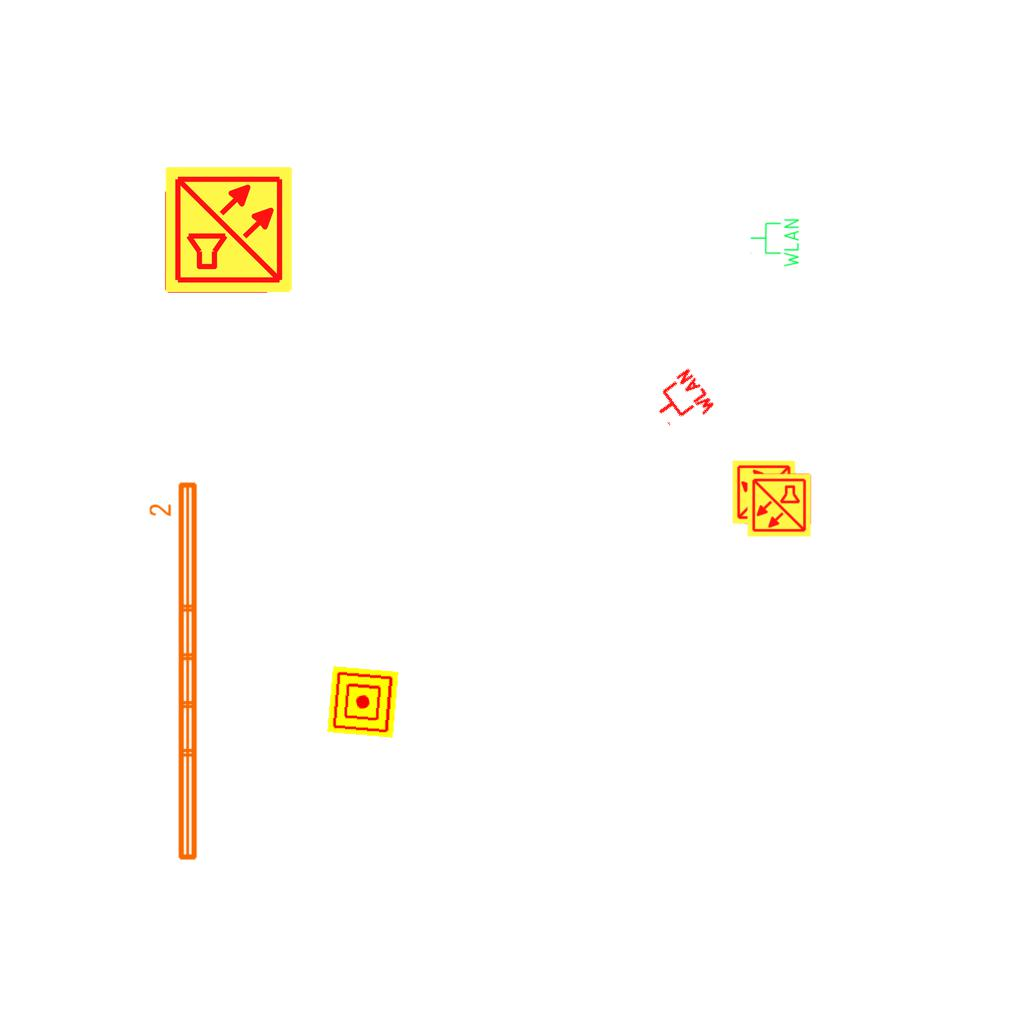Ambulanz_Pendelleuchte_LED: (147, 478, 203, 865)
NAM-Nichtautomatischer_Melder: (327, 666, 399, 738)
OKW_Multisensormelder_(Kombination_optischer_Rauch-Kahlenmonoxid_Waerme-Melder): (163, 164, 295, 296), (731, 459, 797, 525), (746, 472, 812, 538)
WLAN: (645, 365, 719, 439), (749, 217, 801, 269)
